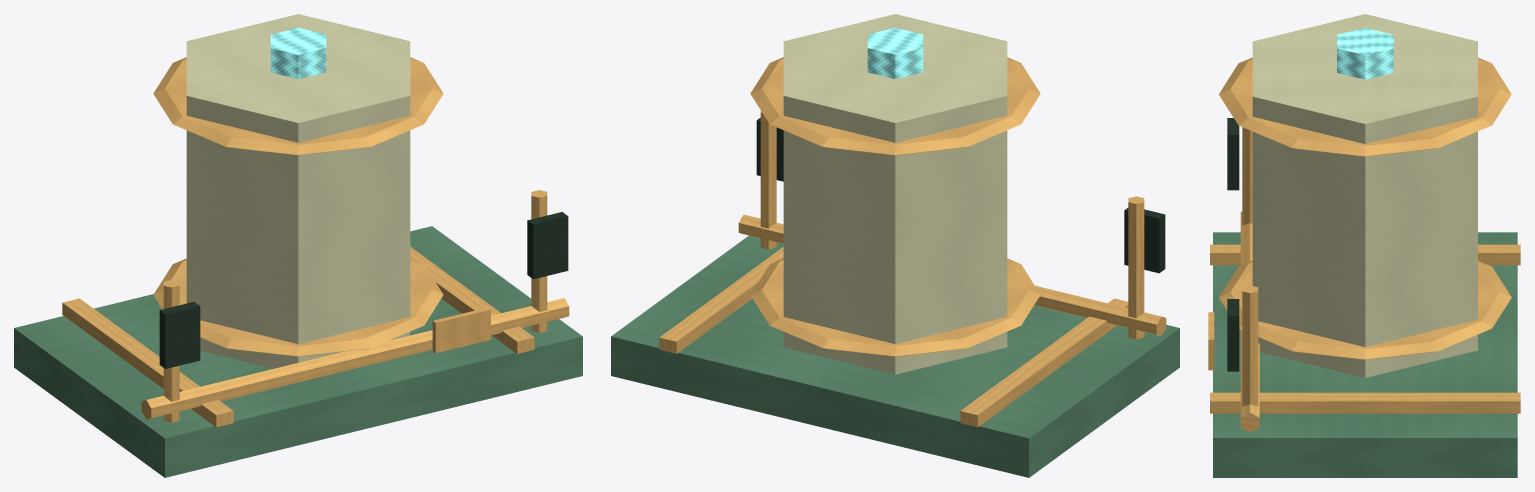
Rendered from atlas100-s001-a02.lod1.glb.
3 views of the same model, side by side, from view 1: azimuth 30°, elevation 25°; view 2: azimuth 150°, elevation 25°; view 3: azimuth 270°, elevation 25° (orthographic).
Visible parts, largest first — view 1: atlas100-s001-a02:part-003, atlas100-s001-a02:part-000, atlas100-s001-a02:part-005, atlas100-s001-a02:part-011, atlas100-s001-a02:part-004, atlas100-s001-a02:part-001, atlas100-s001-a02:part-006, atlas100-s001-a02:part-008, atlas100-s001-a02:part-010, atlas100-s001-a02:part-002, atlas100-s001-a02:part-012, atlas100-s001-a02:part-007 (+1 smaller); view 2: atlas100-s001-a02:part-003, atlas100-s001-a02:part-000, atlas100-s001-a02:part-004, atlas100-s001-a02:part-005, atlas100-s001-a02:part-001, atlas100-s001-a02:part-011, atlas100-s001-a02:part-002, atlas100-s001-a02:part-006, atlas100-s001-a02:part-007, atlas100-s001-a02:part-009, atlas100-s001-a02:part-008, atlas100-s001-a02:part-010; view 3: atlas100-s001-a02:part-003, atlas100-s001-a02:part-000, atlas100-s001-a02:part-005, atlas100-s001-a02:part-004, atlas100-s001-a02:part-002, atlas100-s001-a02:part-006, atlas100-s001-a02:part-009, atlas100-s001-a02:part-001, atlas100-s001-a02:part-011, atlas100-s001-a02:part-007, atlas100-s001-a02:part-010, atlas100-s001-a02:part-008 (+1 smaller).
Boxes of the visible parts, left/top/right/bottom form: atlas100-s001-a02:part-003: left=186, top=14, right=410, bottom=368; atlas100-s001-a02:part-000: left=14, top=226, right=582, bottom=477; atlas100-s001-a02:part-005: left=153, top=57, right=443, bottom=155; atlas100-s001-a02:part-011: left=141, top=298, right=569, bottom=419; atlas100-s001-a02:part-004: left=153, top=258, right=443, bottom=356; atlas100-s001-a02:part-001: left=62, top=298, right=233, bottom=427; atlas100-s001-a02:part-006: left=270, top=27, right=326, bottom=78; atlas100-s001-a02:part-008: left=159, top=301, right=200, bottom=368; atlas100-s001-a02:part-010: left=527, top=212, right=568, bottom=279; atlas100-s001-a02:part-002: left=410, top=247, right=534, bottom=353; atlas100-s001-a02:part-012: left=432, top=307, right=490, bottom=353; atlas100-s001-a02:part-007: left=163, top=280, right=179, bottom=422; atlas100-s001-a02:part-003: left=783, top=14, right=1007, bottom=374; atlas100-s001-a02:part-000: left=611, top=235, right=1179, bottom=477; atlas100-s001-a02:part-004: left=750, top=258, right=1040, bottom=356; atlas100-s001-a02:part-005: left=750, top=57, right=1040, bottom=155; atlas100-s001-a02:part-001: left=960, top=298, right=1128, bottom=427; atlas100-s001-a02:part-011: left=738, top=214, right=1166, bottom=335; atlas100-s001-a02:part-002: left=659, top=247, right=783, bottom=353; atlas100-s001-a02:part-006: left=867, top=27, right=923, bottom=78; atlas100-s001-a02:part-007: left=1128, top=196, right=1144, bottom=339; atlas100-s001-a02:part-009: left=760, top=110, right=776, bottom=249; atlas100-s001-a02:part-008: left=1124, top=208, right=1165, bottom=273; atlas100-s001-a02:part-010: left=756, top=117, right=783, bottom=181; atlas100-s001-a02:part-003: left=1252, top=14, right=1477, bottom=377; atlas100-s001-a02:part-000: left=1213, top=232, right=1517, bottom=477; atlas100-s001-a02:part-005: left=1219, top=57, right=1511, bottom=156; atlas100-s001-a02:part-004: left=1219, top=260, right=1511, bottom=359; atlas100-s001-a02:part-002: left=1210, top=392, right=1520, bottom=413; atlas100-s001-a02:part-006: left=1337, top=28, right=1393, bottom=79; atlas100-s001-a02:part-009: left=1242, top=285, right=1258, bottom=406; atlas100-s001-a02:part-001: left=1210, top=244, right=1520, bottom=265; atlas100-s001-a02:part-011: left=1240, top=211, right=1259, bottom=432; atlas100-s001-a02:part-007: left=1242, top=127, right=1252, bottom=225; atlas100-s001-a02:part-010: left=1227, top=299, right=1239, bottom=371; atlas100-s001-a02:part-008: left=1227, top=118, right=1239, bottom=190.
Size of the model in its own units: 2.88 by 2.18 by 1.85.
Materials: 5 (5 with a texture image).
